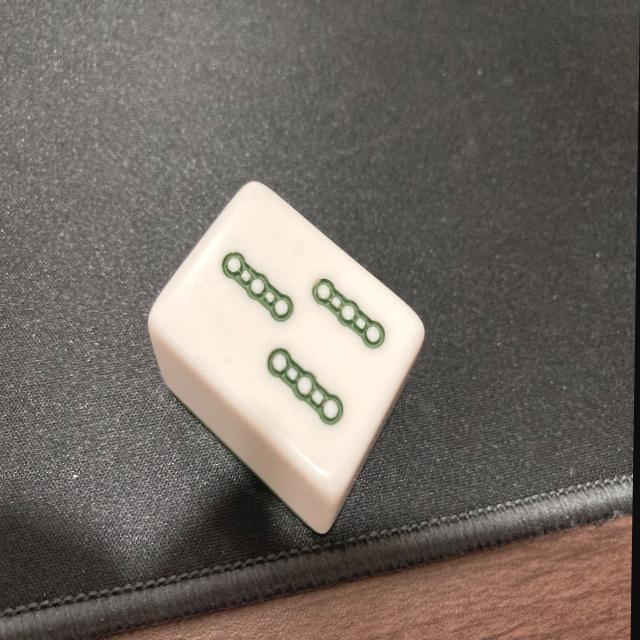s3: (148, 192, 426, 489)
